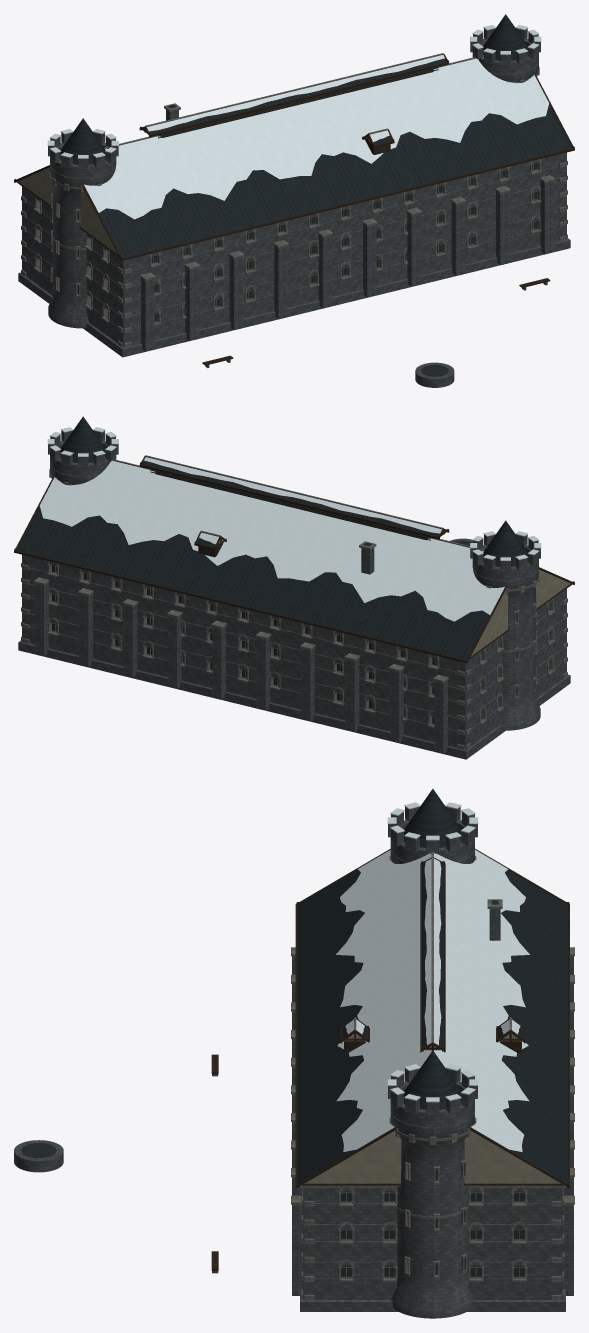
File: great_hall.glb
3 renders of one model, top to bottom at view 1: azimuth 30°, elevation 25°; view 2: azimuth 150°, elevation 25°; view 3: azimuth 270°, elevation 25°, orthographic. The views are drawn at different scales.
Parts seen in each view (by area): view 1: ENV_R5_Stone, ENV_R5_Snow, ENV_R5_Slate, ENV_R5_Trim, ENV_R5_Timber, ENV_R5_Dark, ENV_R5_Plaster; view 2: ENV_R5_Stone, ENV_R5_Snow, ENV_R5_Slate, ENV_R5_Trim, ENV_R5_Timber, ENV_R5_Dark, ENV_R5_Plaster; view 3: ENV_R5_Stone, ENV_R5_Snow, ENV_R5_Slate, ENV_R5_Trim, ENV_R5_Plaster, ENV_R5_Timber, ENV_R5_Dark.
Boxes of the visible parts, <box> form: ENV_R5_Stone: <box>18,28,570,387</box>; ENV_R5_Snow: <box>47,25,549,219</box>; ENV_R5_Slate: <box>15,14,572,257</box>; ENV_R5_Trim: <box>21,53,567,347</box>; ENV_R5_Timber: <box>14,54,574,365</box>; ENV_R5_Dark: <box>77,67,536,376</box>; ENV_R5_Plaster: <box>16,128,371,256</box>; ENV_R5_Stone: <box>18,430,570,759</box>; ENV_R5_Snow: <box>39,427,541,621</box>; ENV_R5_Slate: <box>16,416,573,660</box>; ENV_R5_Trim: <box>21,455,567,749</box>; ENV_R5_Timber: <box>14,456,574,663</box>; ENV_R5_Dark: <box>52,469,516,723</box>; ENV_R5_Plaster: <box>218,535,571,659</box>; ENV_R5_Stone: <box>14,806,573,1318</box>; ENV_R5_Snow: <box>336,802,529,1151</box>; ENV_R5_Slate: <box>297,789,568,1187</box>; ENV_R5_Trim: <box>291,852,574,1300</box>; ENV_R5_Plaster: <box>300,1033,565,1186</box>; ENV_R5_Timber: <box>211,848,569,1270</box>; ENV_R5_Dark: <box>21,900,524,1276</box>.
Size of the model in its own units: 68.76 by 27.04 by 54.1.
Materials: 9 (8 with a texture image).
